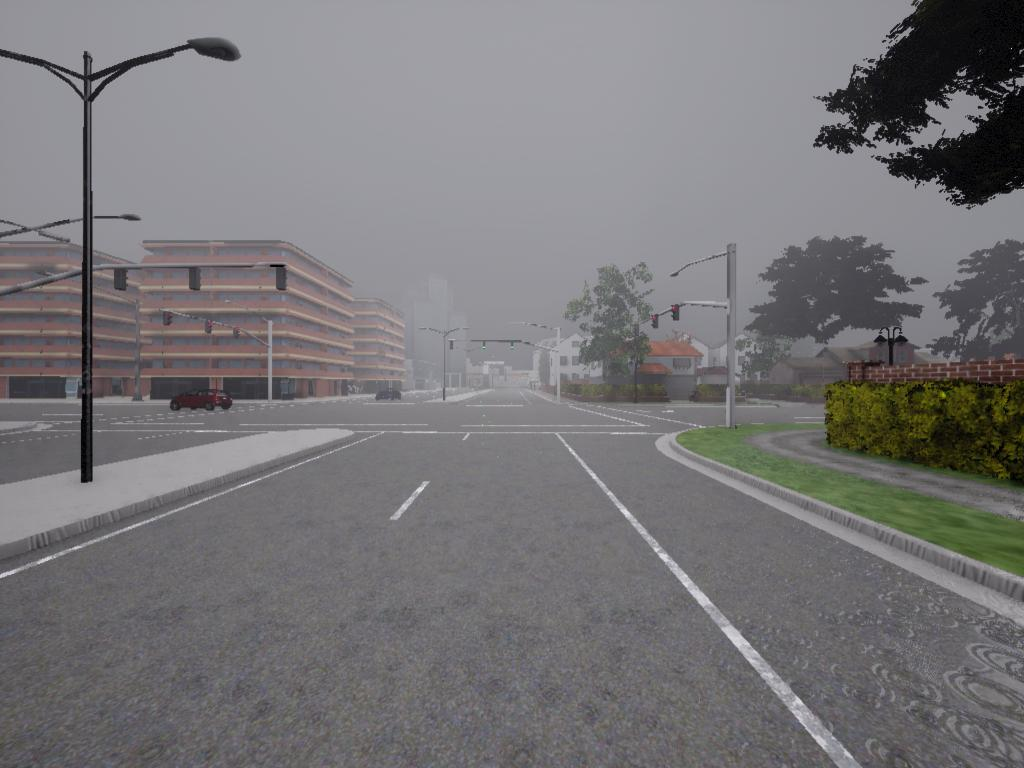traffic_light: (114, 265, 130, 295), (188, 265, 203, 294), (276, 265, 289, 295), (204, 317, 215, 337), (164, 308, 173, 329), (651, 314, 660, 333), (233, 327, 242, 344), (670, 308, 679, 322), (483, 341, 487, 350), (511, 341, 515, 350), (451, 341, 454, 352)
